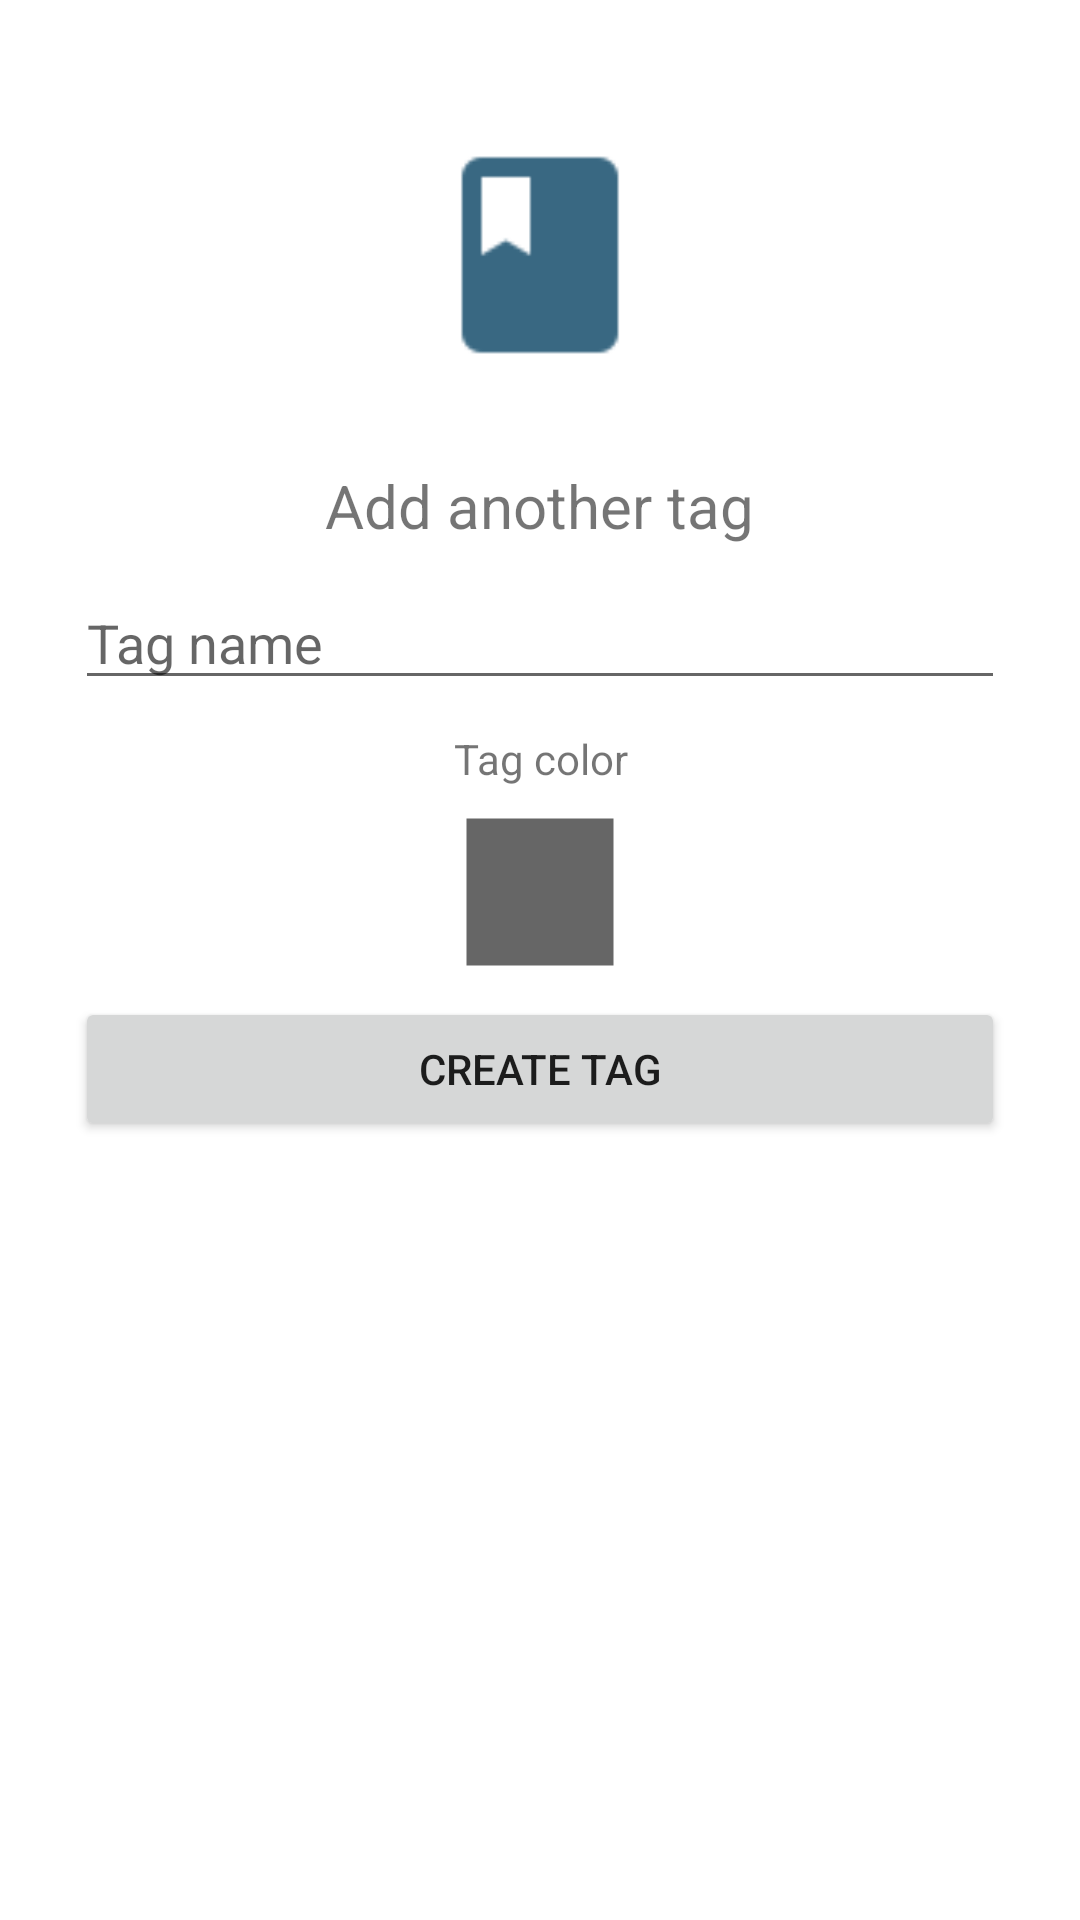

Icon click points for this 1080×1920 phone screenshot, format (x,y):
book: (540,255)
